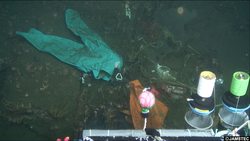plastic bag: (13, 7, 125, 83), (127, 78, 171, 129)
